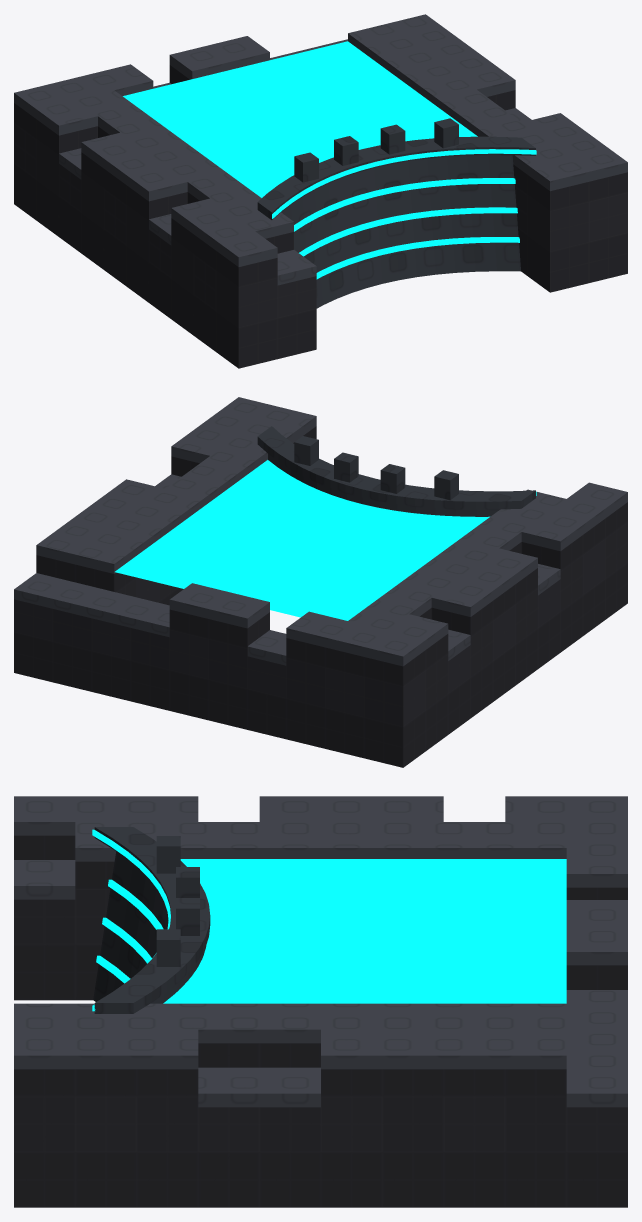
Rendered from Barrage_Cybernetique.fbx.
The picture shows the model from 3 angles, top to bottom: view 1: azimuth 30°, elevation 25°; view 2: azimuth 150°, elevation 25°; view 3: azimuth 270°, elevation 25°; orthographic projection. The views are drawn at different scales.
Visible parts, largest first — view 1: Barrage_Cybernetique; view 2: Barrage_Cybernetique; view 3: Barrage_Cybernetique.
Part boxes in pixels (<box>): Barrage_Cybernetique: <box>14,14,627,368</box>; Barrage_Cybernetique: <box>14,397,627,767</box>; Barrage_Cybernetique: <box>14,796,627,1207</box>.
Size of what is drawn, in the model's own units: 1024 by 350 by 1024.
Materials: 5 (4 with a texture image).
